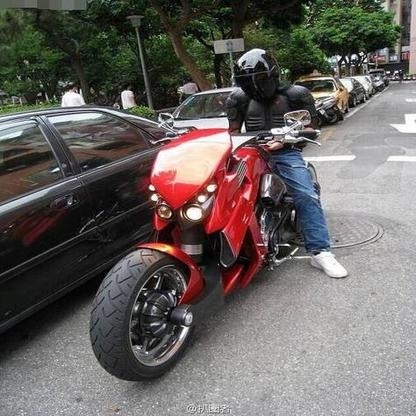target: (81, 42, 360, 388)
